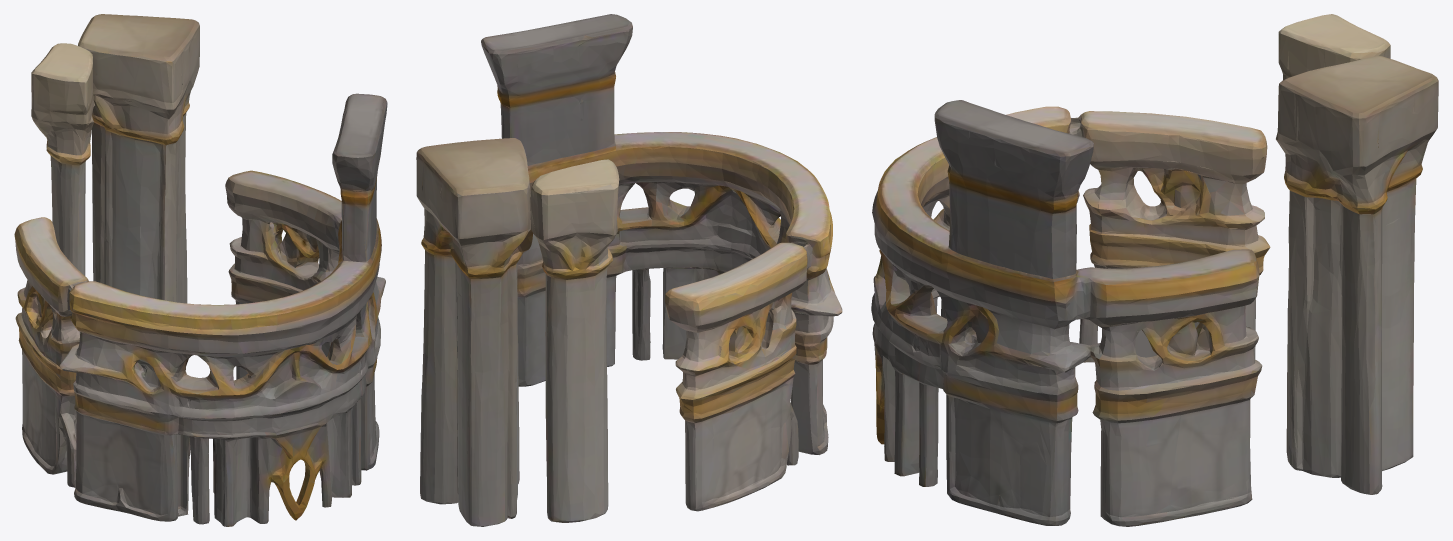
The model's file is pillars_clouds1.glb.
3 views of the same model, side by side, from view 1: azimuth 30°, elevation 25°; view 2: azimuth 150°, elevation 25°; view 3: azimuth 270°, elevation 25° (orthographic). The views are drawn at different scales.
Parts seen in each view (by area): view 1: world; view 2: world; view 3: world.
Boxes of the visible parts, x1,y1,x2,y2 form: world: (14,14,387,526); world: (416,14,842,526); world: (871,14,1438,526).
Bounding box in the file's own units: 0.8007 × 0.7582 × 0.9989.
Materials: 1 (1 with a texture image).
